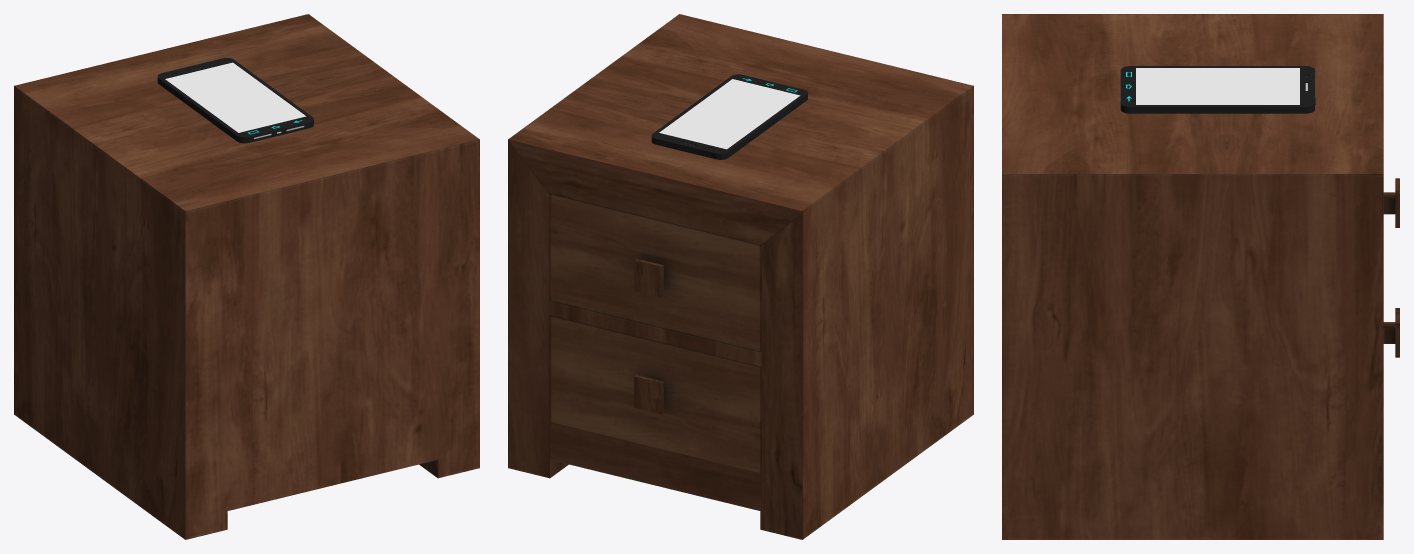
Rendered from Cellphone.glb.
3 renders of one model, left to right at view 1: azimuth 30°, elevation 25°; view 2: azimuth 150°, elevation 25°; view 3: azimuth 270°, elevation 25°, orthographic. The views are drawn at different scales.
Visible parts, largest first — view 1: Bollard, ID165, ID139; view 2: Bollard, ID165, ID139; view 3: Bollard, ID165, ID139.
Part boxes in pixels (<box>): Bollard: <box>14,14,479,539</box>; ID165: <box>165,62,305,132</box>; ID139: <box>157,58,313,143</box>; Bollard: <box>508,14,973,539</box>; ID165: <box>659,79,800,149</box>; ID139: <box>651,74,807,159</box>; Bollard: <box>1002,14,1399,539</box>; ID165: <box>1136,68,1299,104</box>; ID139: <box>1120,66,1314,113</box>.
Size of the model in its own units: 0.6138 by 0.6679 by 0.645.
10 materials, 1 textured.
